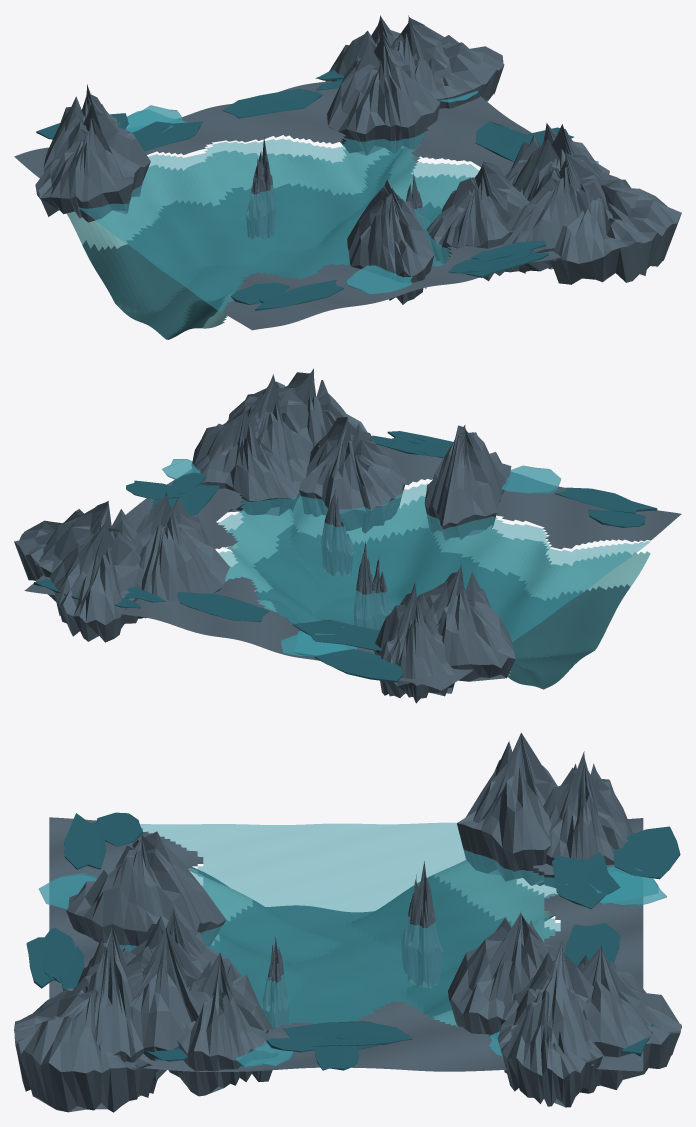
File: water_tile_04.glb
3 renders of one model, top to bottom at view 1: azimuth 30°, elevation 25°; view 2: azimuth 150°, elevation 25°; view 3: azimuth 270°, elevation 25°, orthographic. The views are drawn at different scales.
Parts seen in each view (by area): view 1: glacial water surface 04, submerged mineral riverbed.004, single continuous dark slate shoreline.004, visible shallow mineral shelves.004, angular fractured shoreline ledge.058, angular fractured shoreline ledge.052, angular fractured shoreline ledge.050, angular fractured shoreline ledge.059, angular fractured shoreline ledge.057, angular fractured shoreline ledge.056, angular fractured shoreline ledge.048, angular fractured shoreline ledge.055 (+18 smaller); view 2: glacial water surface 04, submerged mineral riverbed.004, single continuous dark slate shoreline.004, visible shallow mineral shelves.004, angular fractured shoreline ledge.057, angular fractured shoreline ledge.053, angular fractured shoreline ledge.054, angular fractured shoreline ledge.052, angular fractured shoreline ledge.059, angular fractured shoreline ledge.050, angular fractured shoreline ledge.049, angular fractured shoreline ledge.055 (+18 smaller); view 3: glacial water surface 04, submerged mineral riverbed.004, single continuous dark slate shoreline.004, angular fractured shoreline ledge.058, angular fractured shoreline ledge.059, angular fractured shoreline ledge.050, angular fractured shoreline ledge.054, angular fractured shoreline ledge.053, angular fractured shoreline ledge.052, angular fractured shoreline ledge.055, angular fractured shoreline ledge.048, angular fractured shoreline ledge.049 (+21 smaller).
Boxes of the visible parts, x1,y1,x2,y2 form: glacial water surface 04: (78,132,478,312); submerged mineral riverbed.004: (82,148,441,339); single continuous dark slate shoreline.004: (14,81,560,330); visible shallow mineral shelves.004: (66,144,470,328); angular fractured shoreline ledge.058: (548,179,681,284); angular fractured shoreline ledge.052: (327,31,440,155); angular fractured shoreline ledge.050: (35,103,150,222); angular fractured shoreline ledge.059: (347,180,434,304); angular fractured shoreline ledge.057: (426,161,529,281); angular fractured shoreline ledge.056: (502,150,630,271); angular fractured shoreline ledge.048: (413,35,504,108); angular fractured shoreline ledge.055: (512,124,602,215); glacial water surface 04: (218,483,649,642); submerged mineral riverbed.004: (253,524,630,689); single continuous dark slate shoreline.004: (24,444,681,690); visible shallow mineral shelves.004: (225,495,650,678); angular fractured shoreline ledge.057: (299,417,406,533); angular fractured shoreline ledge.053: (50,523,143,642); angular fractured shoreline ledge.054: (191,405,306,515); angular fractured shoreline ledge.052: (130,491,229,618); angular fractured shoreline ledge.059: (424,425,511,540); angular fractured shoreline ledge.050: (417,564,515,681); angular fractured shoreline ledge.049: (374,583,456,703); angular fractured shoreline ledge.055: (247,374,312,483); glacial water surface 04: (119,822,560,1029); submerged mineral riverbed.004: (192,867,512,1024); single continuous dark slate shoreline.004: (49,817,643,1071); angular fractured shoreline ledge.058: (14,986,158,1112); angular fractured shoreline ledge.059: (66,831,226,951); angular fractured shoreline ledge.050: (457,732,557,885); angular fractured shoreline ledge.054: (169,952,278,1096); angular fractured shoreline ledge.053: (501,945,681,1089); angular fractured shoreline ledge.052: (448,909,558,1038); angular fractured shoreline ledge.055: (67,927,211,1080); angular fractured shoreline ledge.048: (497,988,602,1107); angular fractured shoreline ledge.049: (537,751,633,887).
Bounding box in the file's own units: 1.15 × 0.3776 × 1.12.
